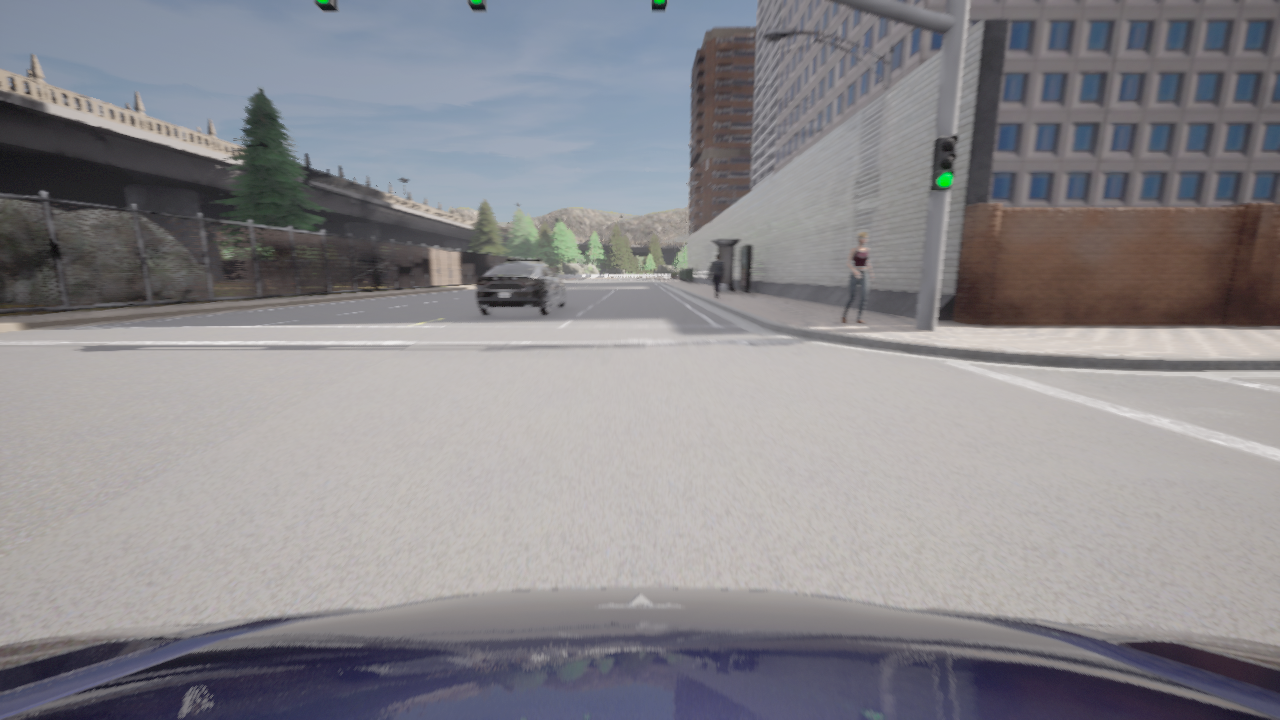cyclist: (0, 588, 1279, 719), (475, 258, 565, 315)
pedestrian: (841, 231, 873, 324), (708, 254, 723, 299)
